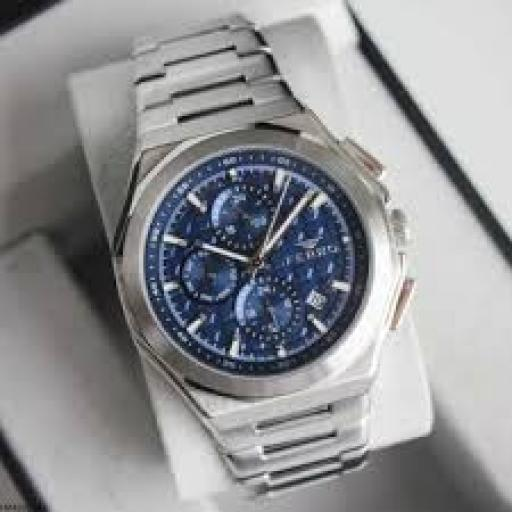KolSaati: (87, 10, 424, 506)
